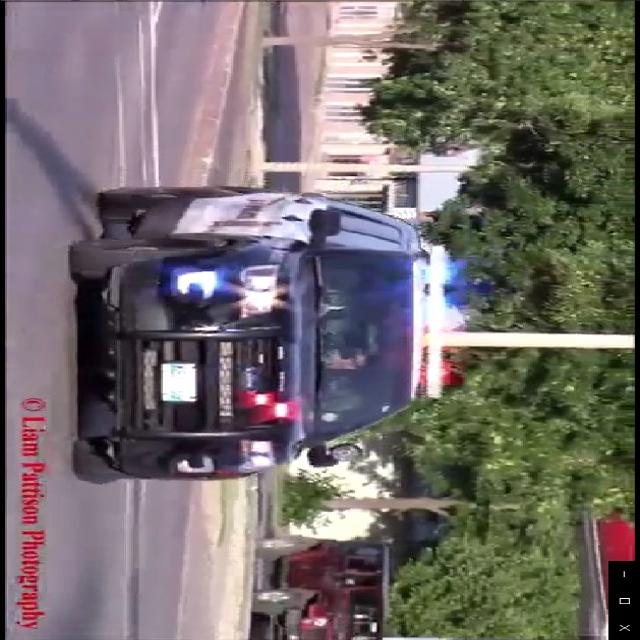emergency: (61, 181, 468, 487)
